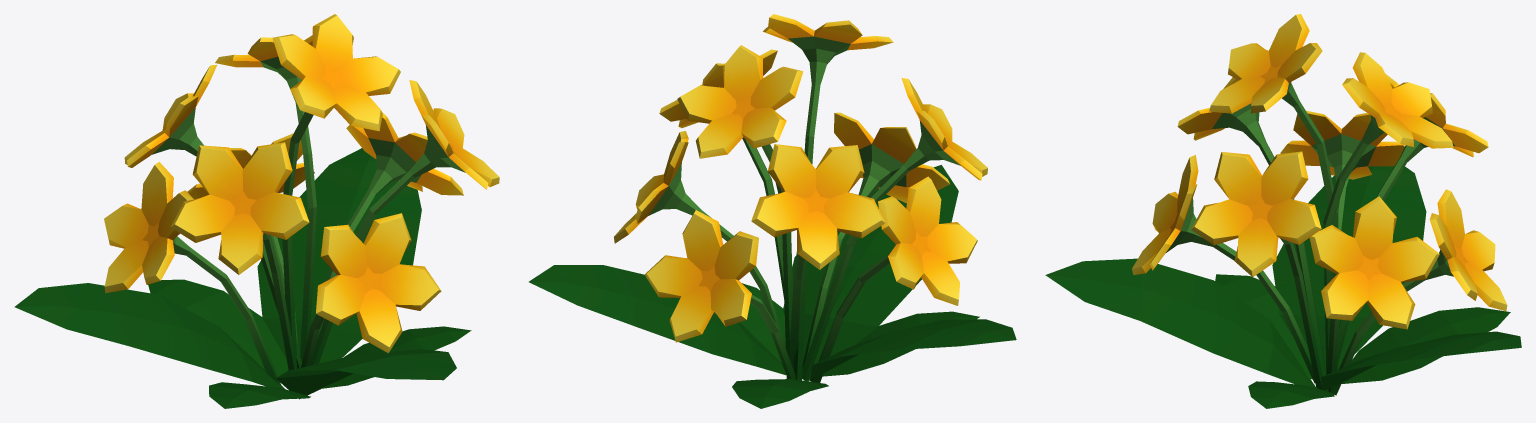
Rendered from Flower_yellow_05.fbx.
3 renders of one model, left to right at view 1: azimuth 30°, elevation 25°; view 2: azimuth 150°, elevation 25°; view 3: azimuth 270°, elevation 25°, orthographic. The views are drawn at different scales.
Parts seen in each view (by area): view 1: Flower_yellow_05; view 2: Flower_yellow_05; view 3: Flower_yellow_05.
Boxes of the visible parts, box(x1,y1,x2,y2) form: Flower_yellow_05: box(14, 14, 499, 408); Flower_yellow_05: box(529, 14, 1016, 408); Flower_yellow_05: box(1045, 14, 1521, 408).
Bounding box in the file's own units: 58.07 × 47.69 × 56.65.
